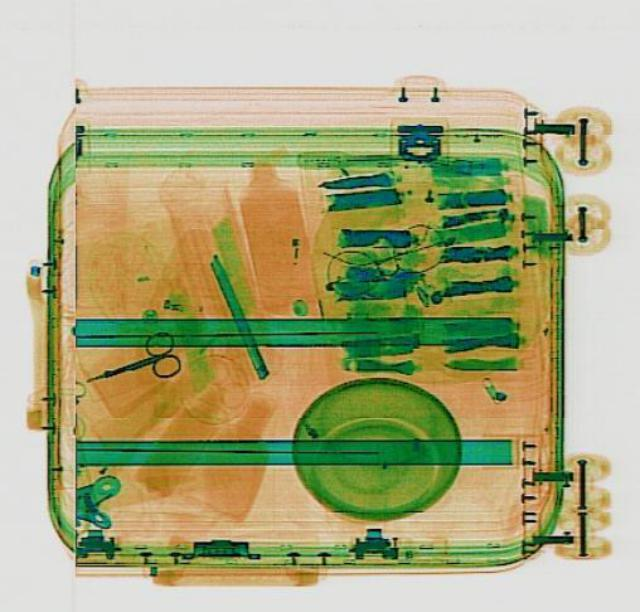Scissors: (75, 327, 187, 399)
